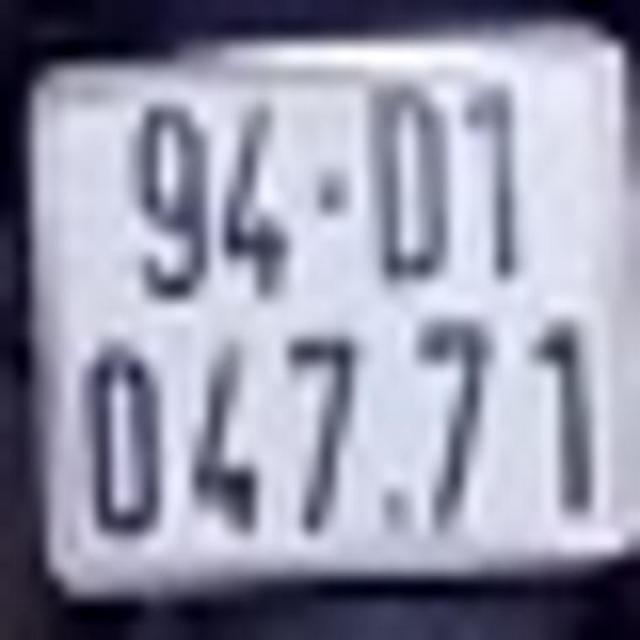0: (87, 342, 161, 534)
1: (527, 315, 596, 527), (462, 79, 519, 283)
4: (188, 338, 264, 536), (225, 102, 290, 300)
7: (415, 319, 493, 531), (282, 336, 360, 535)
9: (138, 104, 209, 298)
D: (368, 76, 451, 284)
